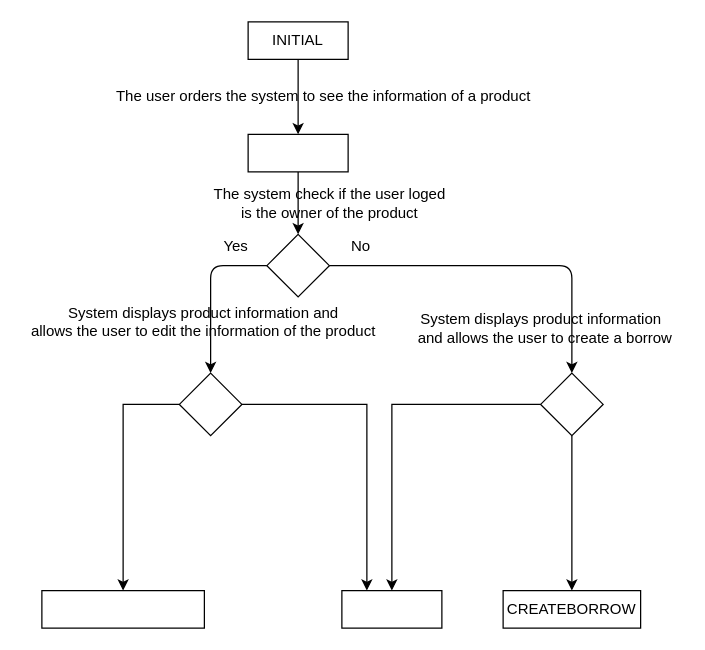
This 705x650 diagram has some shape labels left out. The box of each missing label's shape, as (x1, y1, x2, y2) in pixels:
FINAL: (341, 589, 442, 628)
SAVEPRODUCT: (41, 589, 204, 628)
